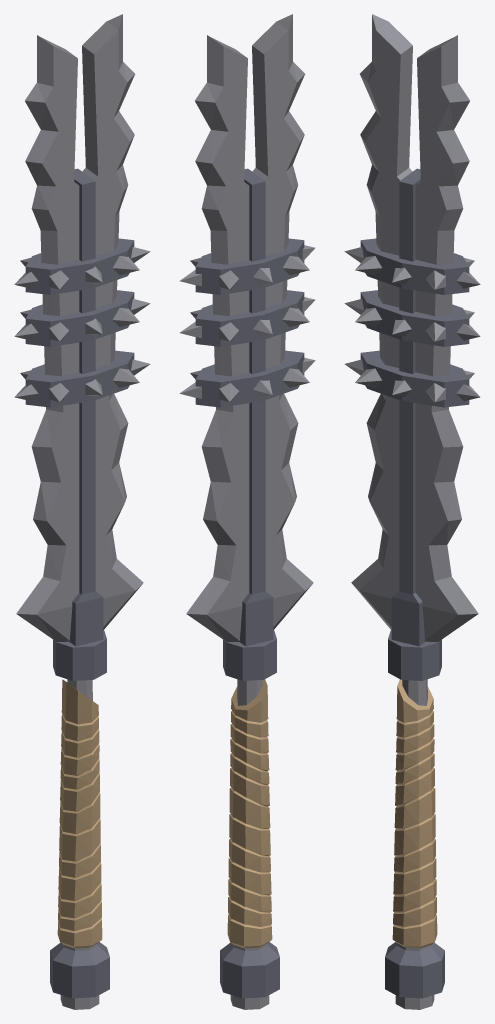
File: _hammer_17.fbx
3 views of the same model, side by side, from view 1: azimuth 30°, elevation 25°; view 2: azimuth 210°, elevation 25°; view 3: azimuth 330°, elevation 25° (orthographic).
Visible parts, largest first — view 1: hammer_17; view 2: hammer_17; view 3: hammer_17.
Part boxes in pixels (x1,y1,x2,y2): hammer_17: (14, 14, 150, 1009); hammer_17: (179, 14, 315, 1009); hammer_17: (344, 14, 480, 1009).
Size of the model in its own units: 12.64 by 86.49 by 7.28.
